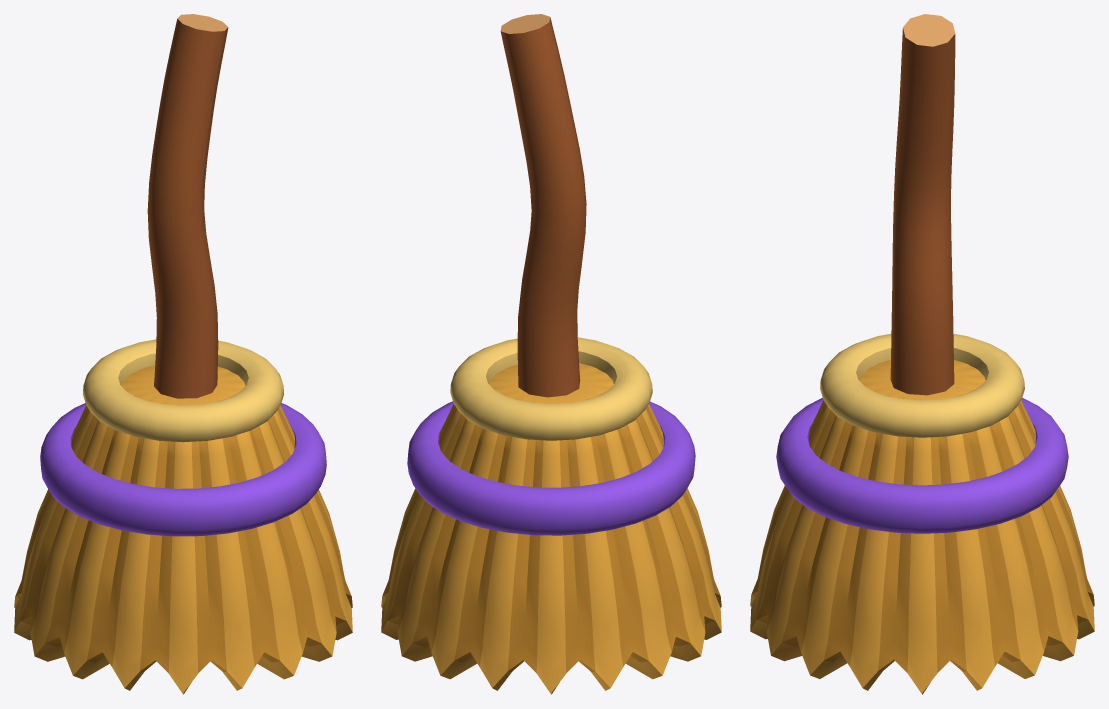
The model's file is Broom.fbx.
3 views of the same model, side by side, from view 1: azimuth 30°, elevation 25°; view 2: azimuth 150°, elevation 25°; view 3: azimuth 270°, elevation 25° (orthographic).
Visible parts, largest first — view 1: Broom; view 2: Broom; view 3: Broom.
Part boxes in pixels (x1,y1,x2,y2): Broom: [14, 14, 352, 694]; Broom: [381, 14, 721, 694]; Broom: [750, 14, 1094, 694].
Bounding box in the file's own units: 158 × 306 × 156.
Materials: 1 (1 with a texture image).
